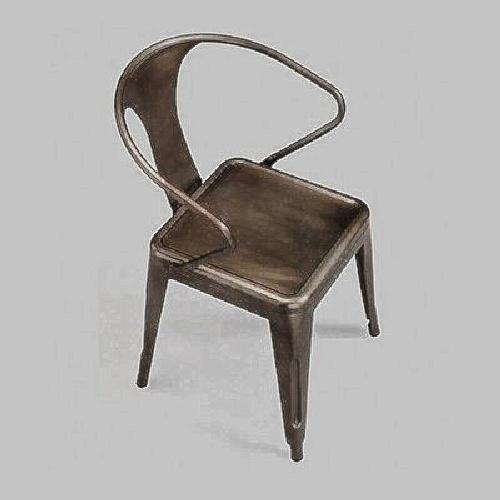chair: (122, 34, 385, 441)
